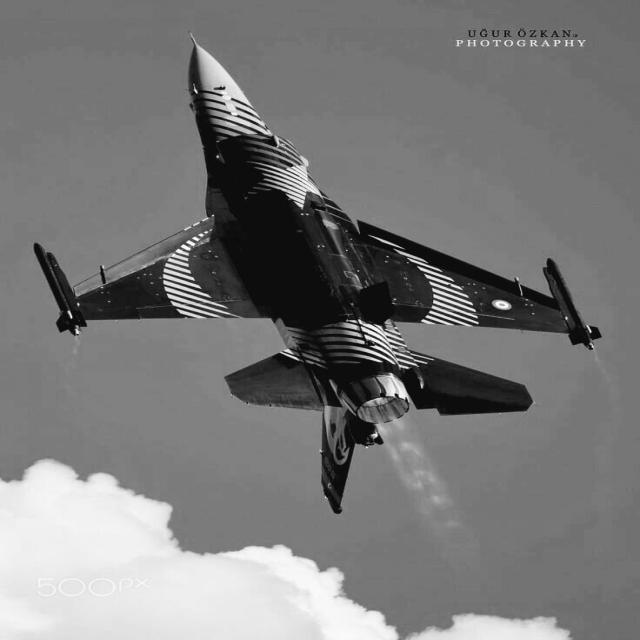iha: (3, 2, 600, 512)
